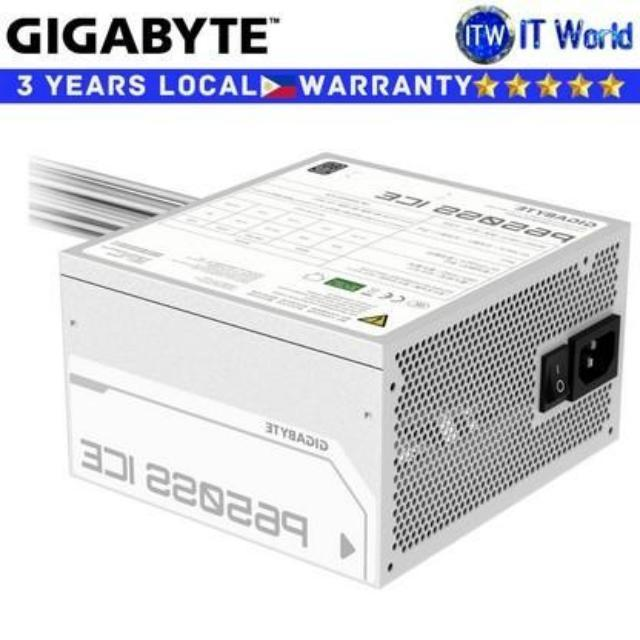PSU: (31, 137, 640, 588)
